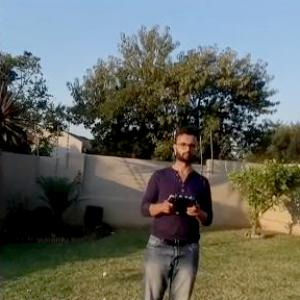follow: (133, 120, 220, 299)
